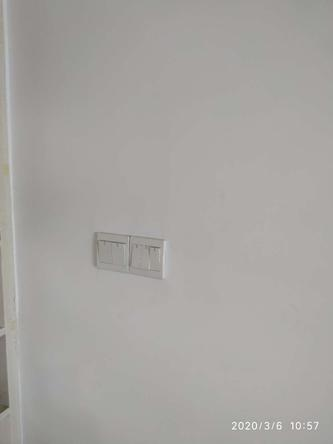switch: (95, 237, 112, 266), (111, 239, 126, 269), (151, 241, 165, 273)
